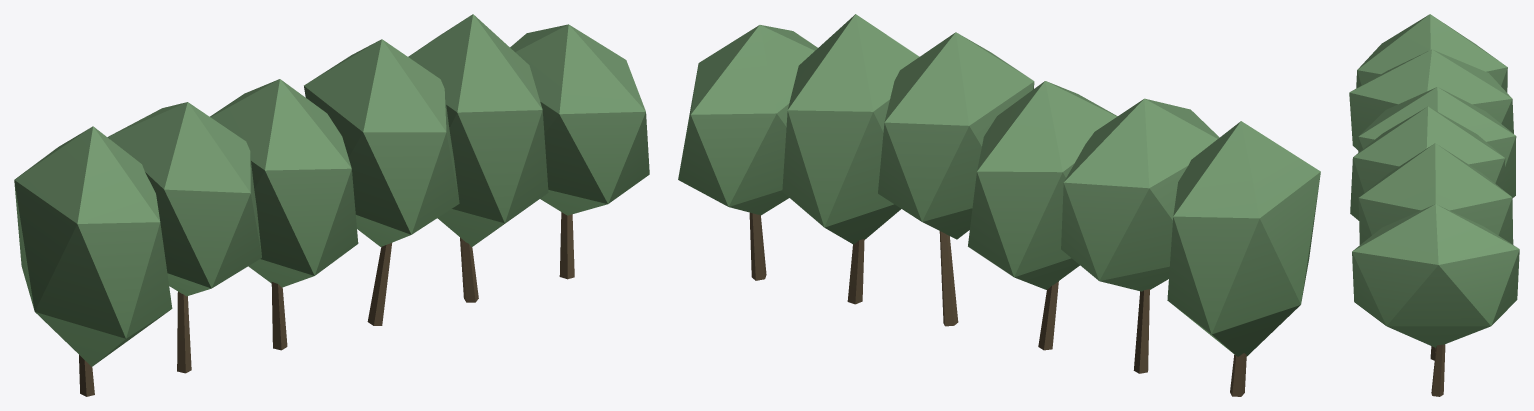
The model's file is hedge_a.glb.
3 views of the same model, side by side, from view 1: azimuth 30°, elevation 25°; view 2: azimuth 150°, elevation 25°; view 3: azimuth 270°, elevation 25° (orthographic). The views are drawn at different scales.
Visible parts, largest first — view 1: hedge_a; view 2: hedge_a; view 3: hedge_a.
Boxes of the visible parts, bbox=[...] form: hedge_a: bbox=[14, 14, 649, 396]; hedge_a: bbox=[678, 14, 1320, 396]; hedge_a: bbox=[1349, 14, 1519, 396].
Size of the model in its own units: 2.6 by 1.2 by 0.85.
